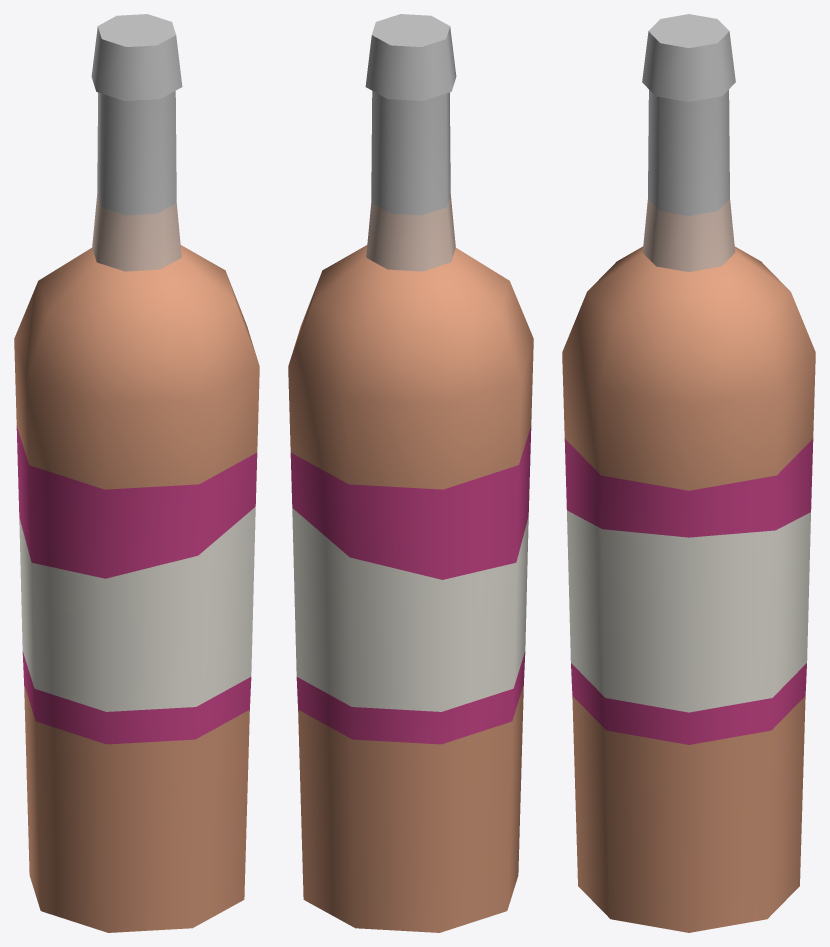
File: prop_086.fbx
3 renders of one model, left to right at view 1: azimuth 30°, elevation 25°; view 2: azimuth 150°, elevation 25°; view 3: azimuth 270°, elevation 25°, orthographic.
Visible parts, largest first — view 1: prop_086; view 2: prop_086; view 3: prop_086.
Boxes of the visible parts, box(x1,y1,x2,y2) form: prop_086: box(14, 14, 259, 932); prop_086: box(288, 14, 533, 932); prop_086: box(562, 14, 815, 932).
Size of the model in its own units: 12.12 by 12.12 by 45.06.
